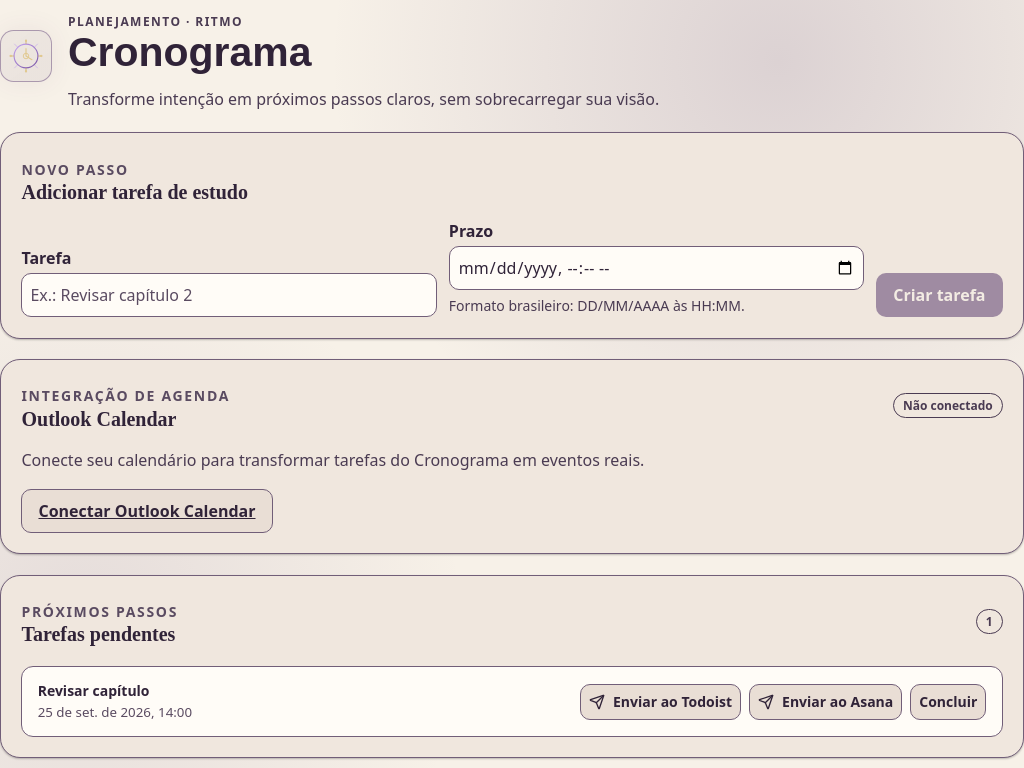
Scenario: StudyTaskBoard › removes a completed task from the upcoming list
The width and height of the screenshot is (1024, 768).
Click the button "Concluir" at x=948, y=702, box x1=910 y1=684 x2=986 y2=720
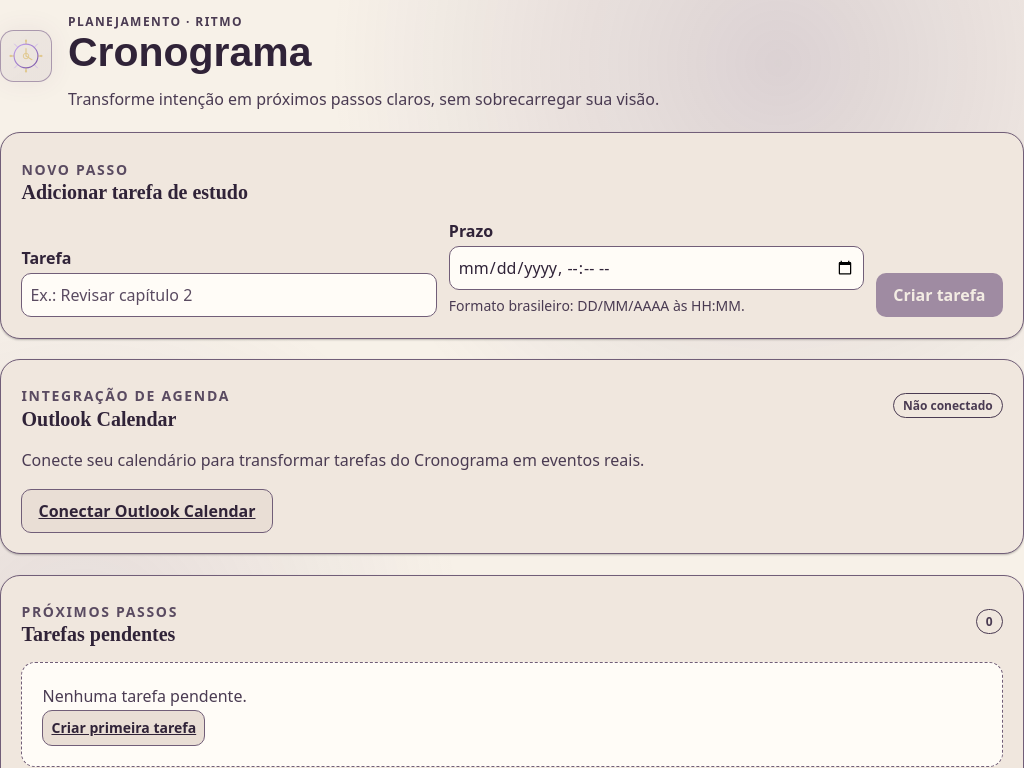
Now the text "Nenhuma tarefa pendente." is shown, box x1=42 y1=686 x2=247 y2=708
